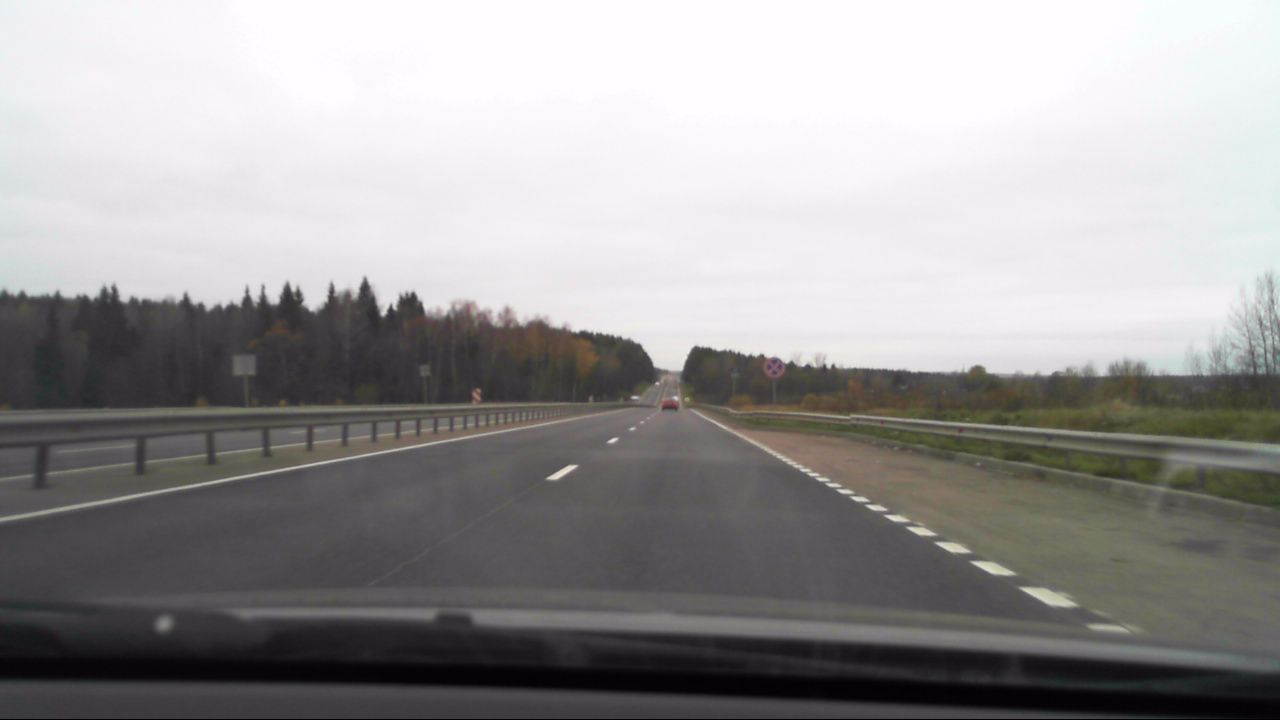No Parking: (763, 358, 785, 379)
